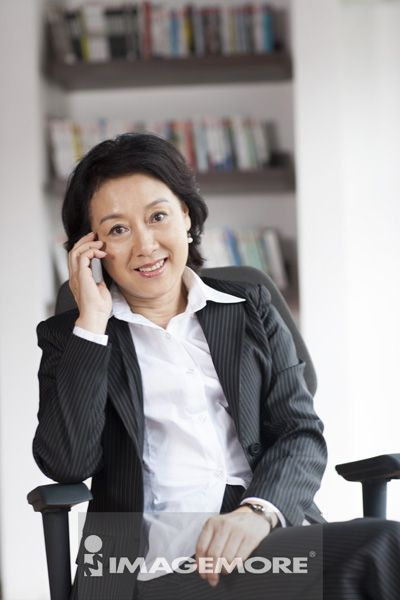talk: (70, 193, 177, 330)
